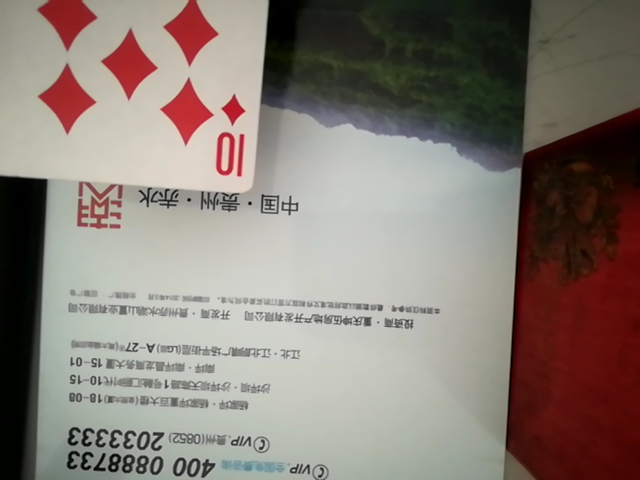fk 10: (1, 0, 282, 199)
